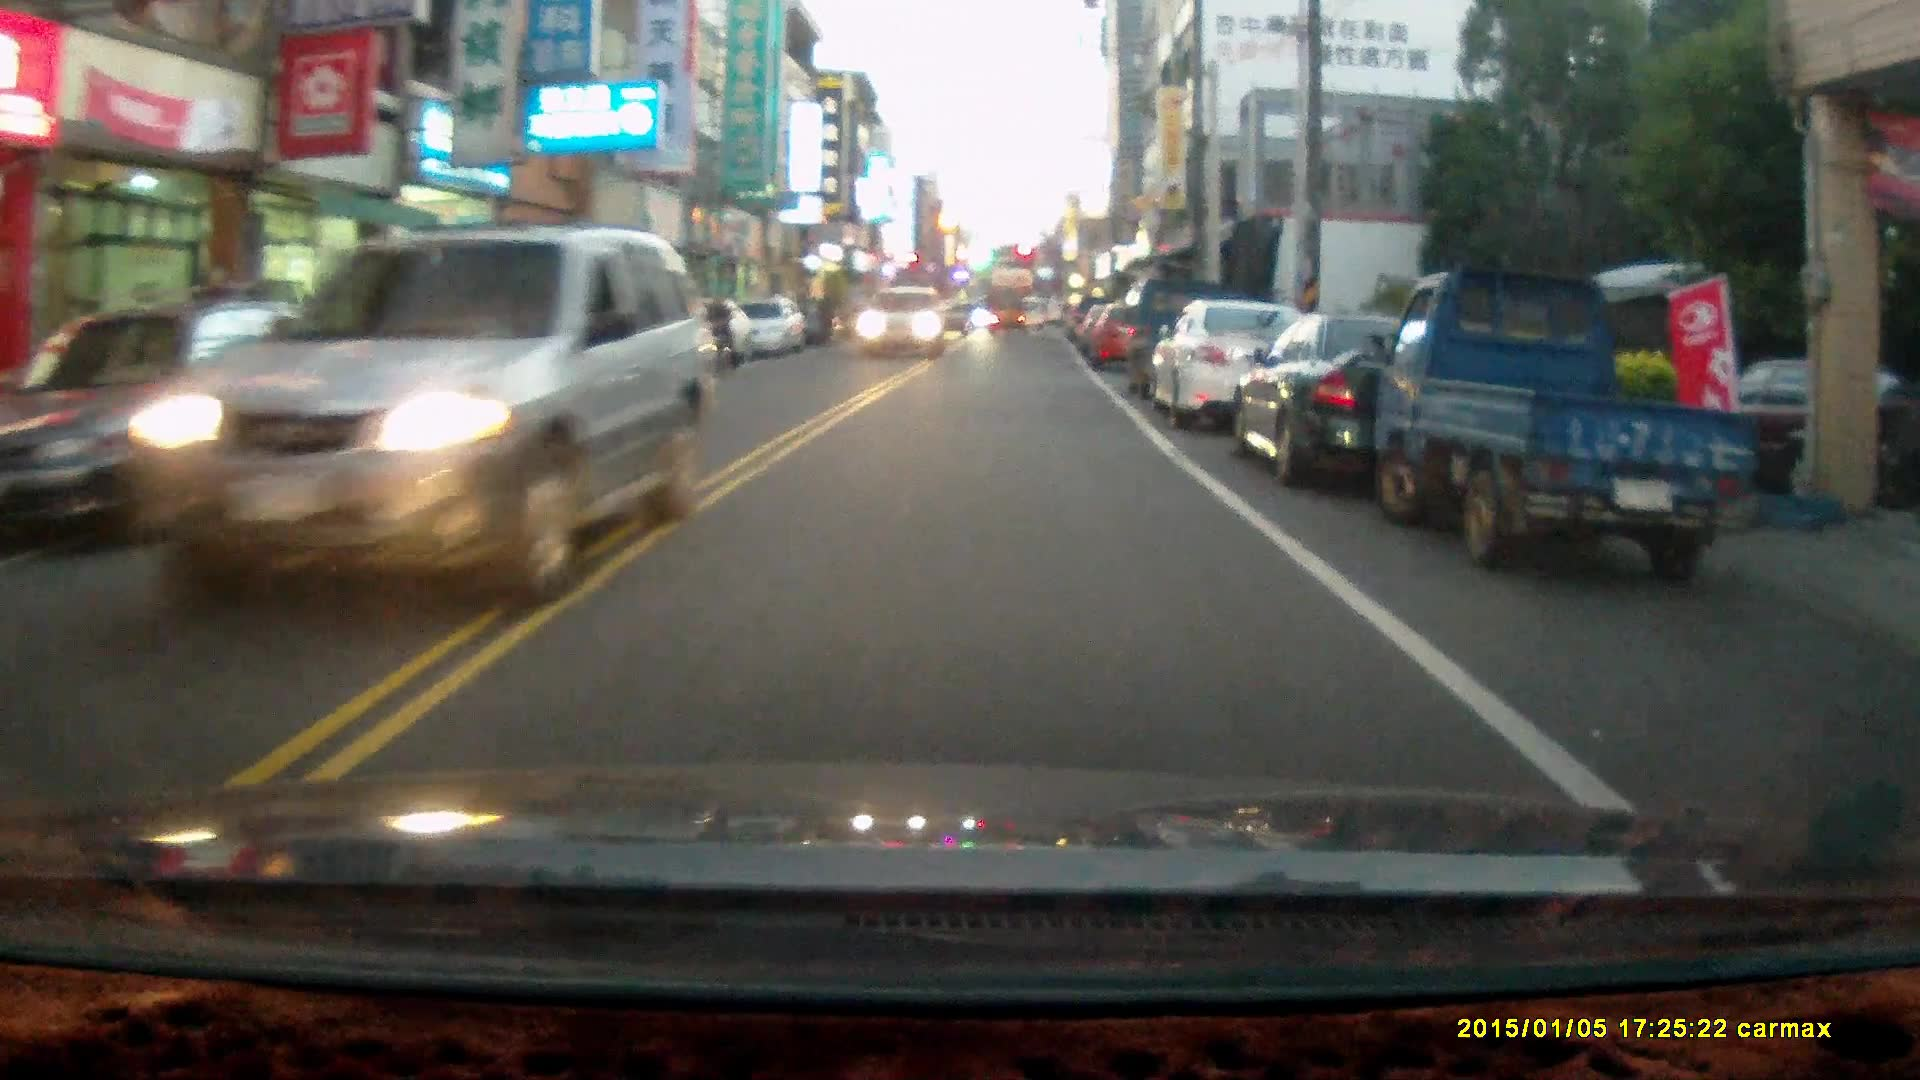pedestrian: (817, 285, 838, 344)
rider: (695, 291, 739, 374)
vehicle: (112, 221, 702, 612), (1371, 270, 1764, 585), (1, 297, 408, 540), (1228, 309, 1548, 493), (1142, 299, 1328, 433), (857, 286, 948, 366), (1087, 301, 1166, 374), (733, 296, 811, 361), (987, 289, 1030, 338)
